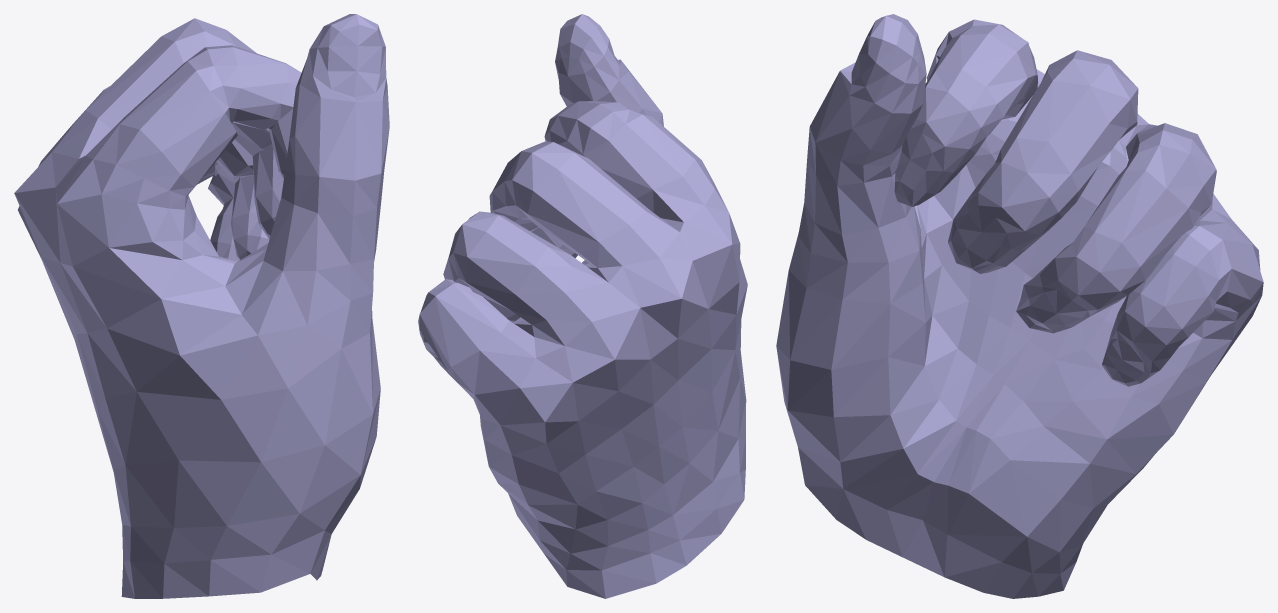
The model's file is frame_0063_source_000063_hand.glb.
3 renders of one model, left to right at view 1: azimuth 30°, elevation 25°; view 2: azimuth 150°, elevation 25°; view 3: azimuth 270°, elevation 25°, orthographic. The views are drawn at different scales.
Parts seen in each view (by area): view 1: world; view 2: world; view 3: world.
Part boxes in pixels (<box>): world: <box>14,14,389,598</box>; world: <box>418,14,747,598</box>; world: <box>776,14,1263,598</box>.
Bounding box in the file's own units: 0.063 × 0.1262 × 0.0913.
